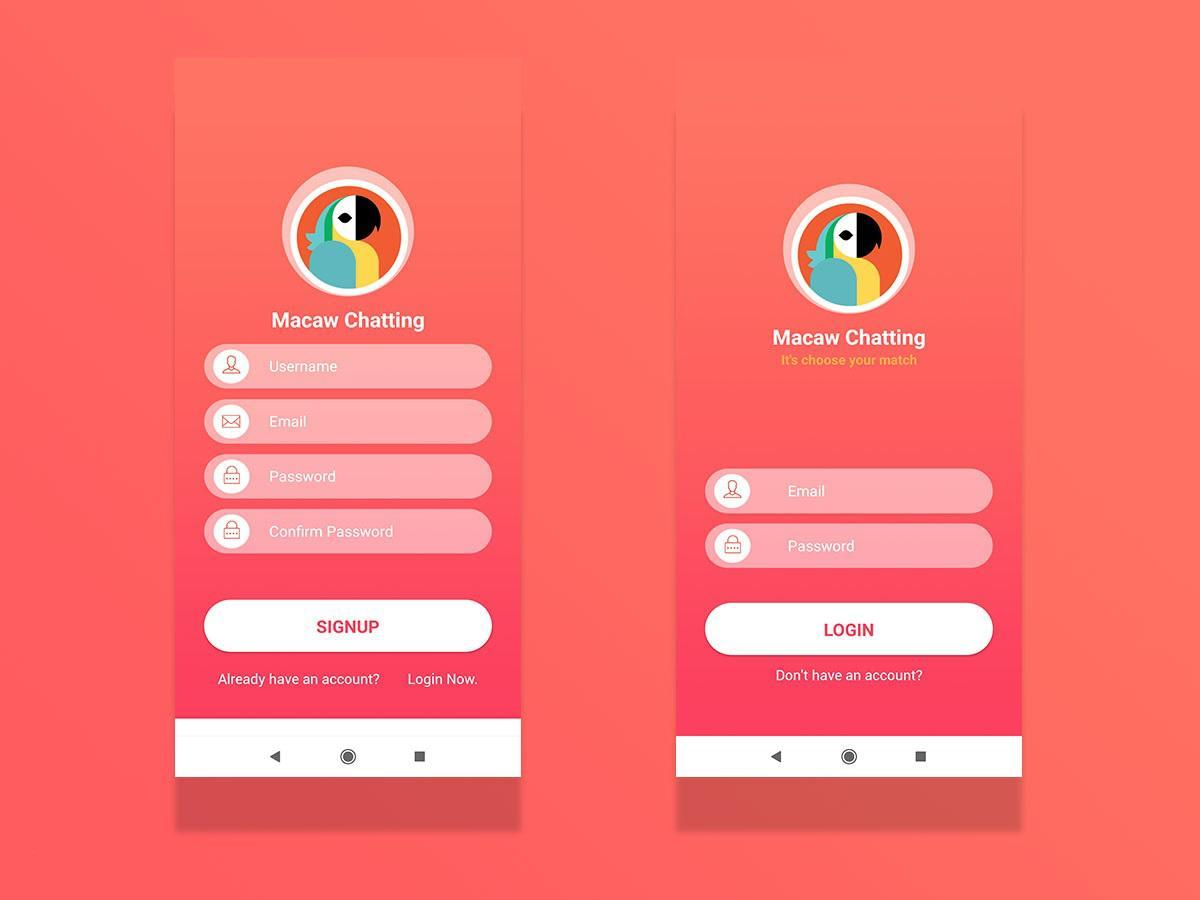button: (706, 602, 996, 659), (205, 599, 493, 654)
icon: (221, 464, 243, 485), (222, 354, 242, 377), (724, 479, 743, 499), (725, 534, 743, 554), (221, 414, 243, 430), (224, 520, 241, 540)
input: (706, 468, 994, 516), (204, 453, 493, 500), (205, 344, 494, 390), (205, 508, 494, 554), (706, 524, 994, 570), (205, 400, 494, 445)
label: (772, 327, 928, 351), (269, 311, 430, 333), (777, 666, 923, 684)
